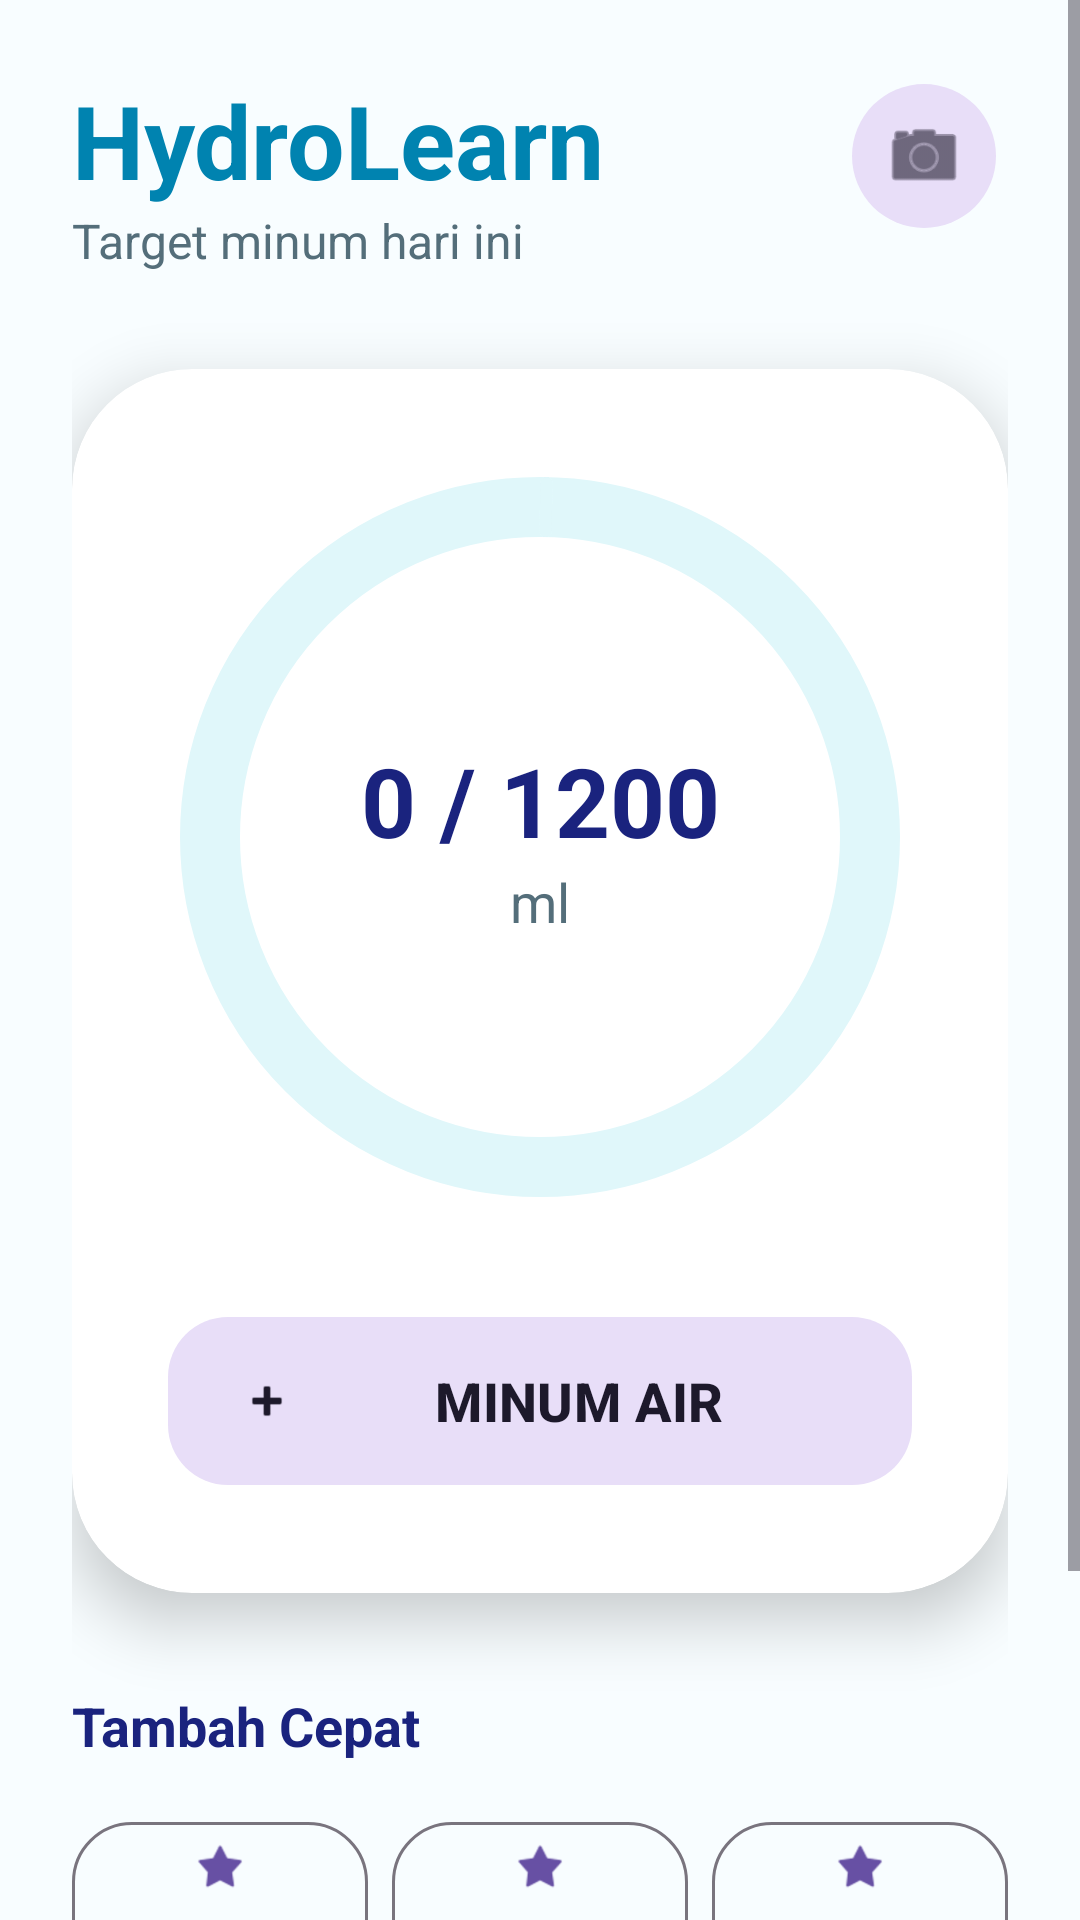

Named icons in this screenshot (1080 × 1920) and their bounding boxes, {"left": x1, "top": y1, "right": x2, "bottom": y2}:
camera: {"left": 852, "top": 84, "right": 996, "bottom": 228}
